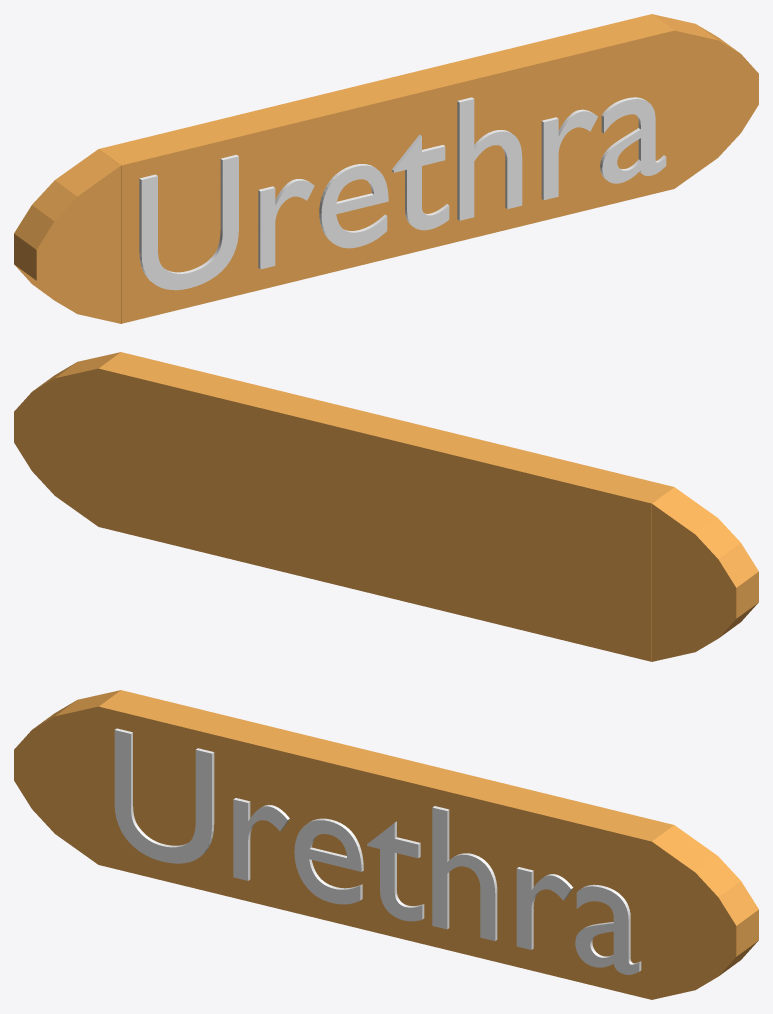
File: txtUrethra.fbx
3 renders of one model, top to bottom at view 1: azimuth 30°, elevation 25°; view 2: azimuth 150°, elevation 25°; view 3: azimuth 330°, elevation 25°, orthographic.
Visible parts, largest first — view 1: TagContainer.115, Text.117; view 2: TagContainer.115; view 3: TagContainer.115, Text.117.
Part boxes in pixels (bbox=[...]): TagContainer.115: bbox=[14, 14, 758, 323]; Text.117: bbox=[139, 97, 666, 290]; TagContainer.115: bbox=[14, 352, 758, 661]; TagContainer.115: bbox=[14, 690, 758, 999]; Text.117: bbox=[114, 728, 641, 974].
Size of the model in its own units: 197 by 41.3 by 11.73.
